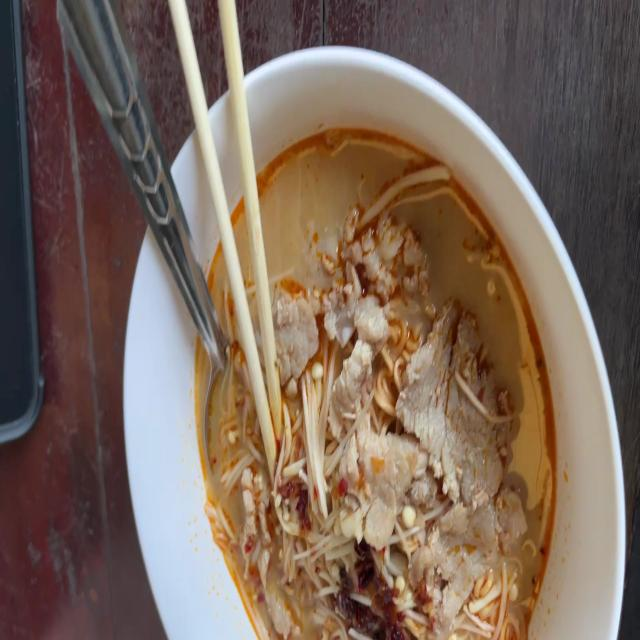noodle: (189, 115, 563, 640)
